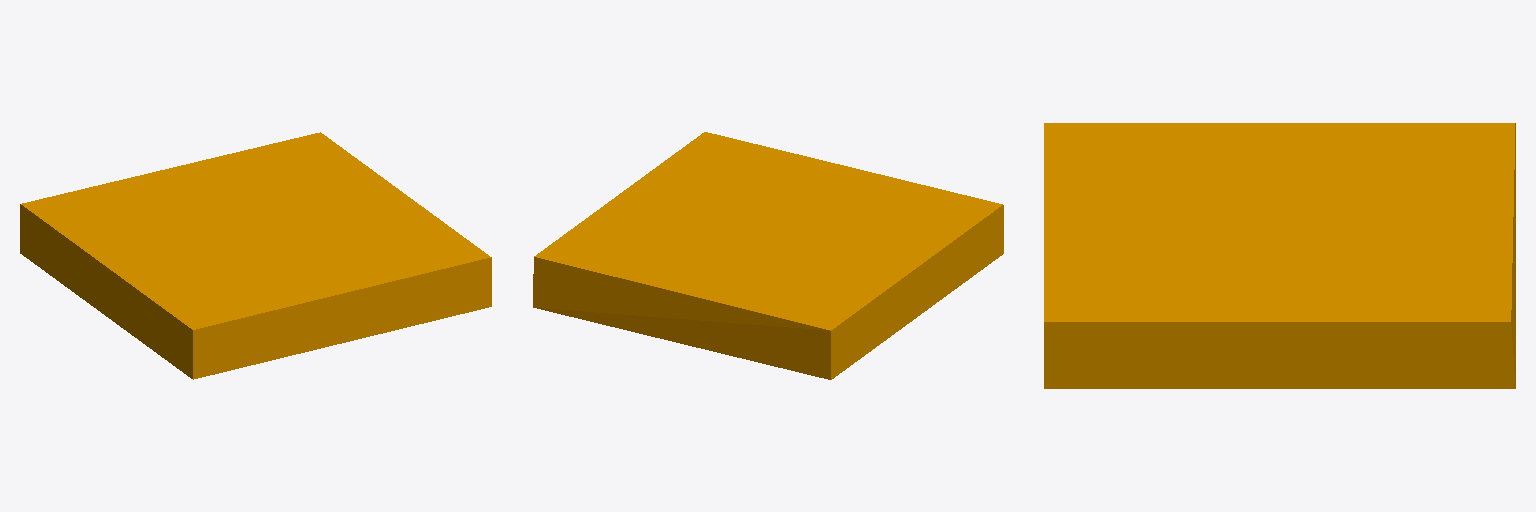
URDF robot description (artag2.urdf):
<robot name="artag2.urdf">

	<!-- * * * Link Definitions * * * -->

    <link name="simple_box_base_link">
 	    <inertial>
            <origin xyz="0 0 0" rpy="0 0 0"/>
            <mass value="1.0" />
            <inertia ixx="0.0741666666667" ixy="0.0" ixz="0.0" iyy="0.0585416666667" iyz="0.0" izz="0.0260416666667"/>
        </inertial>
        <collision>
            <origin xyz="0 0 0" rpy="0 0 0"/>
            <geometry>
                <box size="0.2 0.2 0.2"/>
            </geometry>
        </collision>
        <visual>
            <origin rpy="0.0 0 0" xyz="0 0 0"/>
            <geometry>
                <!--<box size="0.8 0.8 0.2"/>-->
                <mesh filename="package://ur_description/meshes/ur10/visual/ARTAG2.dae"/>
            </geometry>
        </visual>
    </link>
    
    <gazebo reference="simple_box_base_link">
        <kp>100000.0</kp>
        <kd>100000.0</kd>
        <mu1>0.1</mu1>
        <mu2>0.1</mu2>
        <fdir1>1 0 0</fdir1>
    </gazebo>

</robot>

--- Facts derived from the render (not from the file) ---
Views: 3 orthographic renders of the robot side by side, from view 1: azimuth 30°, elevation 25°; view 2: azimuth 150°, elevation 25°; view 3: azimuth 270°, elevation 25°.
Model artag2.urdf with 1 links and 0 joints (none), rooted at simple_box_base_link, posed all joints at 0.
Links seen in each view (by area): view 1: simple_box_base_link; view 2: simple_box_base_link; view 3: simple_box_base_link.
Boxes of the visible links, x1=… form: simple_box_base_link: x1=20, y1=132, x2=491, y2=379; simple_box_base_link: x1=533, y1=132, x2=1003, y2=379; simple_box_base_link: x1=1044, y1=123, x2=1515, y2=388.
Bounding box of the posed robot: 0.5 × 0.5 × 0.0794 m (x, y, z).
Meshes: 1 distinct files referenced, 1 mesh visuals loaded (1 Collada DAE).